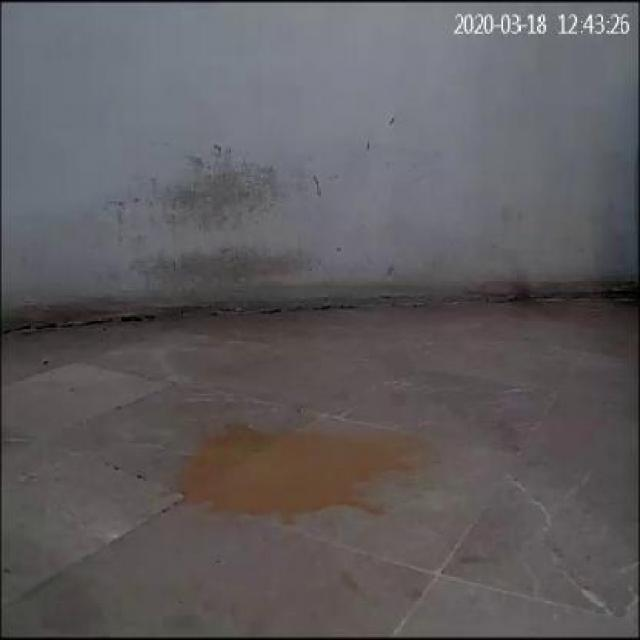spill: (162, 424, 416, 532)
